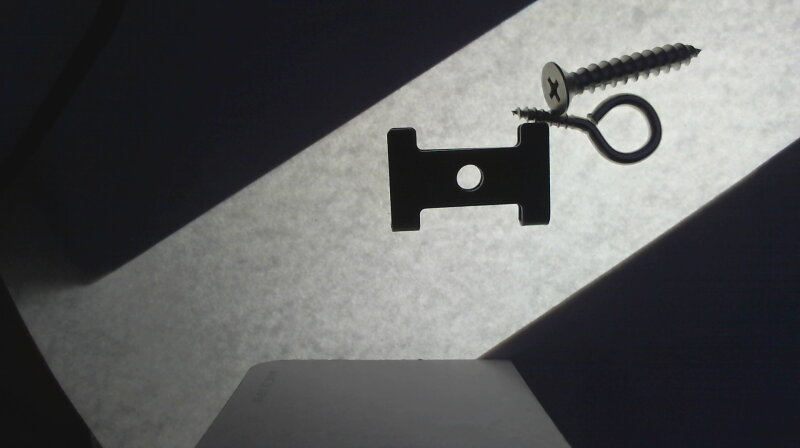O001: (512, 93, 664, 164)
O002: (384, 125, 553, 232)
S001: (541, 41, 703, 112)
